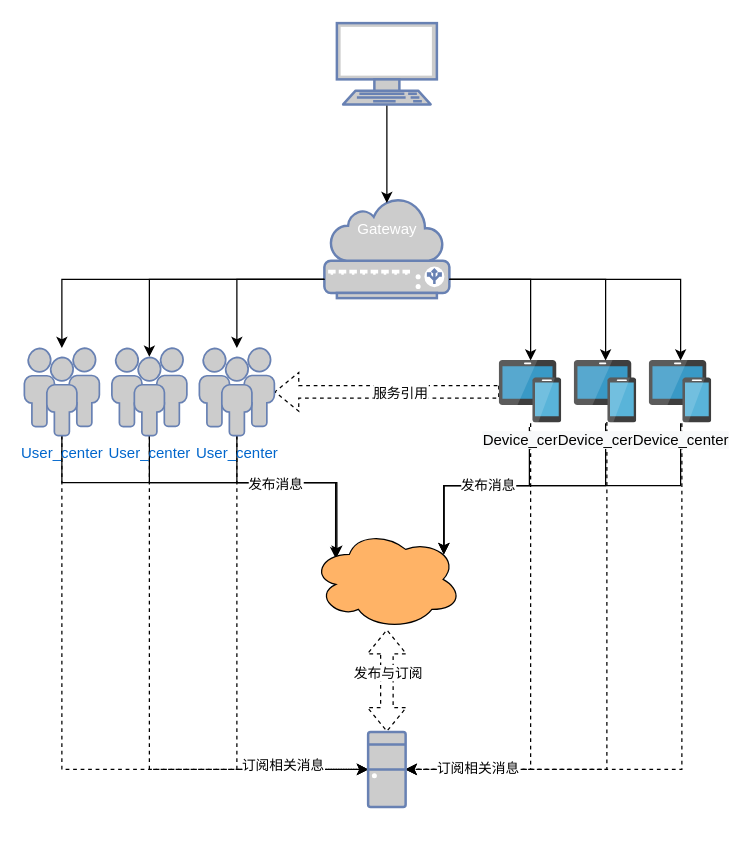
Image size: 750x854. Some labels were removed from this diagram. Here are the shapes that lost their labels. From the top down, the box of each, then its label:
(335, 21, 438, 105): IOT_Manager
(311, 528, 462, 629): Mqtt_center
(366, 730, 406, 808): Mqtt Service
